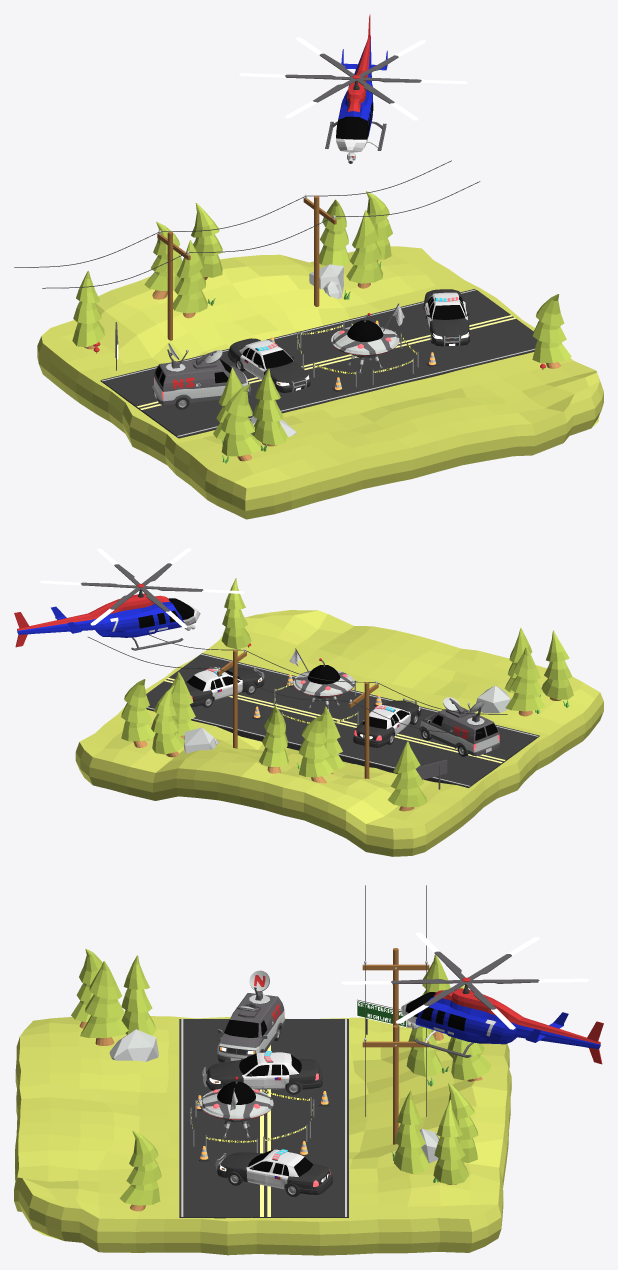
The model's file is low_poly_ufo_scene.glb.
3 renders of one model, top to bottom at view 1: azimuth 30°, elevation 25°; view 2: azimuth 150°, elevation 25°; view 3: azimuth 270°, elevation 25°, orthographic. The views are drawn at different scales.
Parts seen in each view (by area): view 1: Plane.001, Plane.004, Cube, Plane.002, Plane.000, Cube.006, Cube.021, Cube.004, Cylinder.007, Circle.004, Circle.011, Circle.003 (+8 smaller); view 2: Plane.001, Plane.004, Plane.002, Cube, Plane.000, Cube.006, Cube.021, Cube.004, Cylinder.007, Circle.009, Circle.002, Circle (+11 smaller); view 3: Plane.001, Plane.004, Plane.002, Cube, Cube.004, Cube.006, Cube.021, Circle.005, Plane.000, Cylinder.007, Circle.011, Circle.003 (+9 smaller).
Boxes of the visible parts, x1,y1,x2,y2 form: Plane.001: [37, 246, 603, 519]; Plane.004: [100, 289, 537, 438]; Cube: [152, 343, 250, 404]; Plane.002: [325, 14, 387, 163]; Plane.000: [14, 160, 480, 340]; Cube.006: [227, 338, 310, 393]; Cube.021: [239, 37, 467, 120]; Cube.004: [423, 289, 469, 347]; Cylinder.007: [331, 313, 399, 373]; Circle.004: [220, 384, 261, 461]; Circle.011: [532, 294, 571, 368]; Circle.003: [346, 210, 383, 288]; Plane.001: [75, 610, 603, 856]; Plane.004: [146, 653, 539, 787]; Plane.002: [14, 584, 200, 650]; Cube: [419, 697, 499, 756]; Plane.000: [88, 634, 507, 778]; Cube.006: [353, 698, 421, 747]; Cube.021: [39, 548, 244, 627]; Cube.004: [185, 667, 264, 706]; Cylinder.007: [293, 658, 354, 712]; Circle.009: [388, 741, 426, 811]; Circle.002: [505, 647, 545, 716]; Circle: [121, 679, 155, 747]; Plane.001: [14, 1015, 511, 1255]; Plane.004: [179, 1019, 348, 1218]; Plane.002: [401, 977, 603, 1064]; Cube: [217, 970, 284, 1060]; Cube.004: [215, 1149, 332, 1194]; Cube.006: [202, 1051, 322, 1090]; Cube.021: [341, 932, 589, 1029]; Circle.005: [80, 961, 128, 1045]; Plane.000: [362, 885, 429, 1144]; Cylinder.007: [199, 1077, 273, 1137]; Circle.011: [119, 1130, 161, 1211]; Circle.003: [394, 1090, 429, 1173].
Size of the model in its own units: 3163 by 1499 by 3310.
